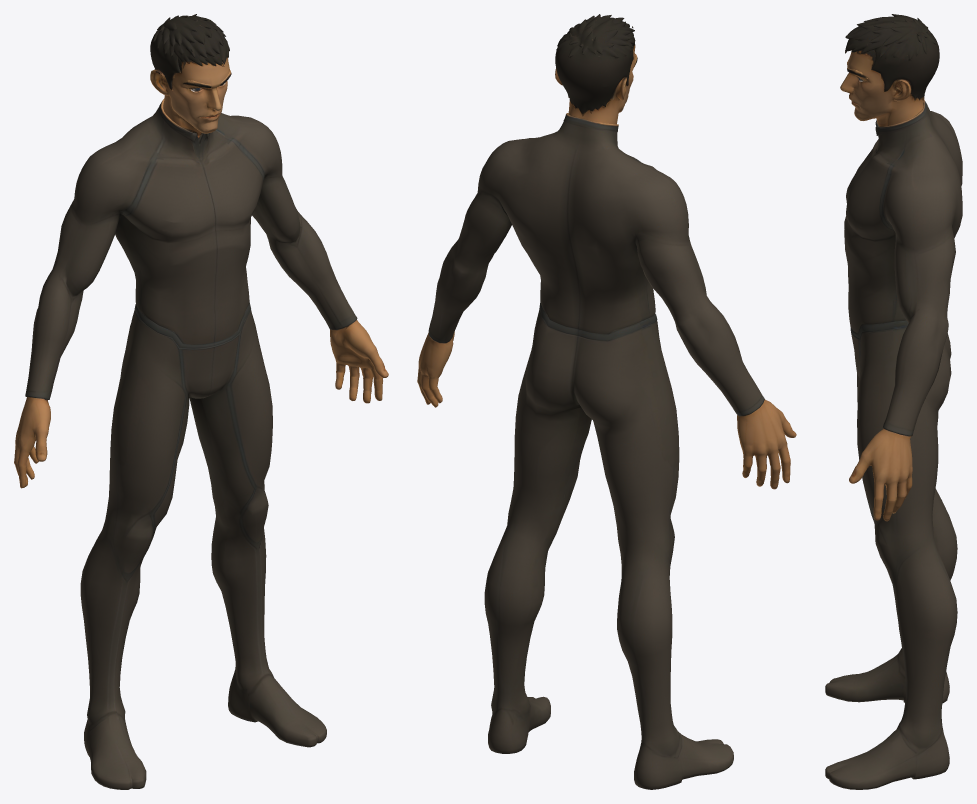
The model's file is masculine-mannequin-tripo.glb.
3 renders of one model, left to right at view 1: azimuth 30°, elevation 25°; view 2: azimuth 150°, elevation 25°; view 3: azimuth 270°, elevation 25°, orthographic. The views are drawn at different scales.
Visible parts, largest first — view 1: tripo_620177bc_535c_4d15_9d7f_7c6e29fb857d; view 2: tripo_620177bc_535c_4d15_9d7f_7c6e29fb857d; view 3: tripo_620177bc_535c_4d15_9d7f_7c6e29fb857d.
Boxes of the visible parts, <box> form: tripo_620177bc_535c_4d15_9d7f_7c6e29fb857d: <box>14,14,388,789</box>; tripo_620177bc_535c_4d15_9d7f_7c6e29fb857d: <box>417,14,796,789</box>; tripo_620177bc_535c_4d15_9d7f_7c6e29fb857d: <box>825,14,962,789</box>.
Size of the model in its own units: 0.5259 by 0.9995 by 0.1733.
Materials: 1 (1 with a texture image).
